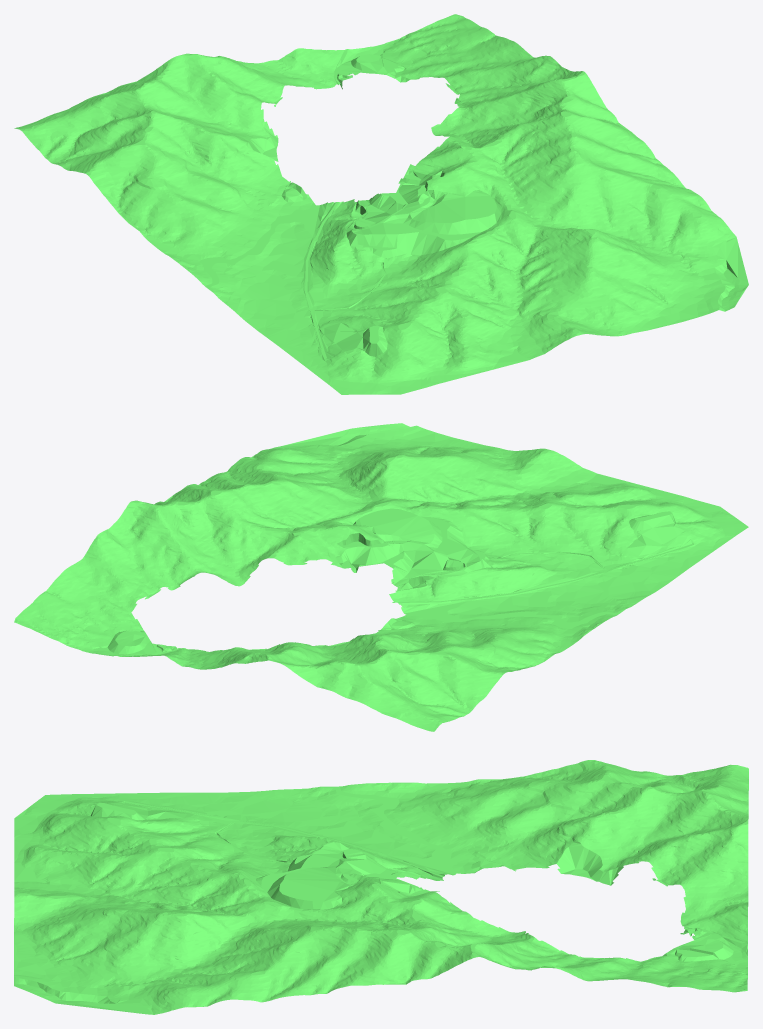
The model's file is NoLod_4.glb.
The picture shows the model from 3 angles, top to bottom: view 1: azimuth 30°, elevation 25°; view 2: azimuth 150°, elevation 25°; view 3: azimuth 270°, elevation 25°; orthographic projection. The views are drawn at different scales.
Parts seen in each view (by area): view 1: rtc; view 2: rtc; view 3: rtc.
Part boxes in pixels (x1,y1,x2,y2): rtc: [14, 14, 748, 394]; rtc: [14, 423, 748, 731]; rtc: [14, 760, 748, 1014].
Size of the model in its own units: 1196 by 169 by 1596.
